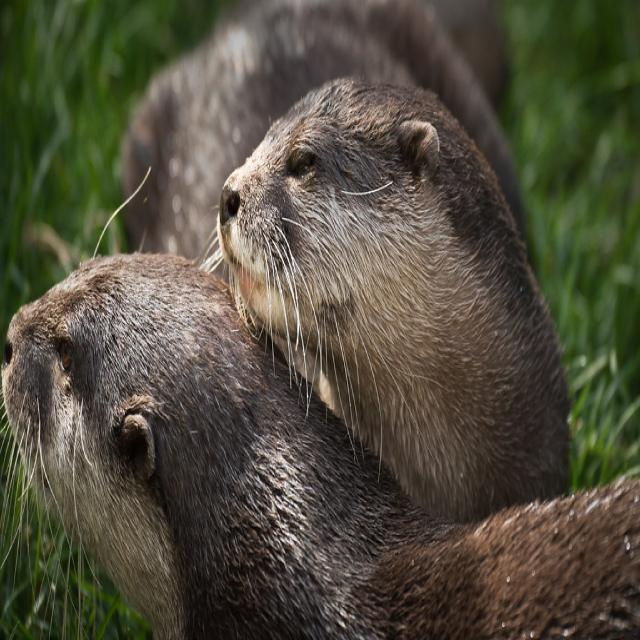otter: (3, 254, 640, 640), (220, 79, 531, 505)
